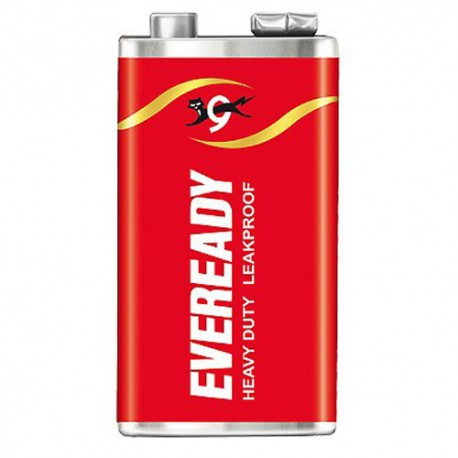9V: (105, 10, 347, 443)
